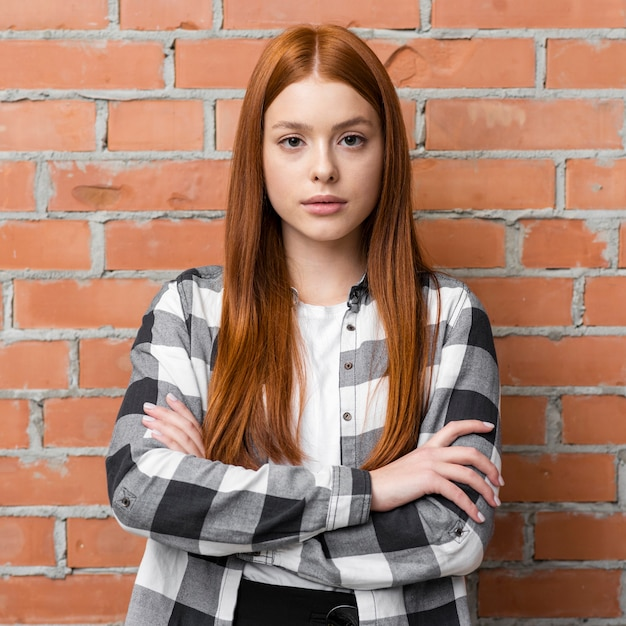teen: (218, 31, 426, 302)
